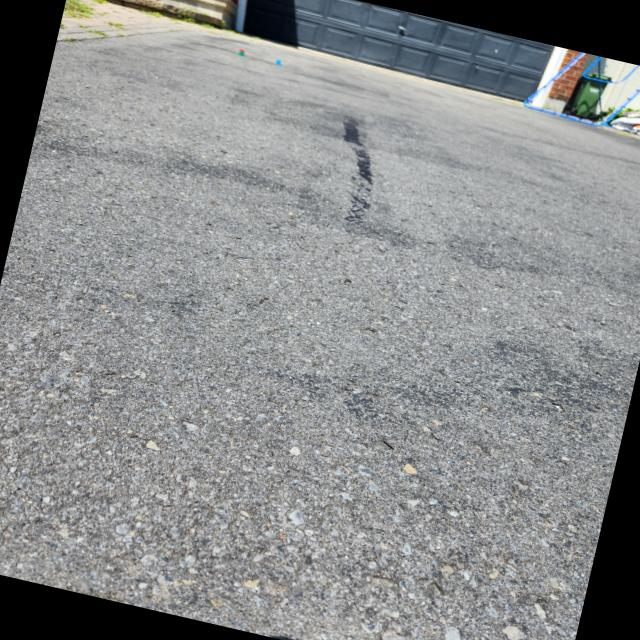bluecube: (274, 59, 282, 65)
green cube: (237, 51, 244, 56)
red cube: (238, 48, 245, 51)
